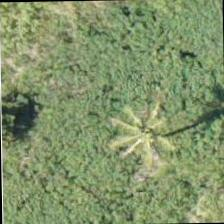Kelapa_Sawit: (92, 88, 184, 180)
